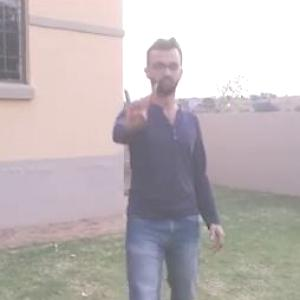takeoff-hand: (118, 74, 162, 132)
